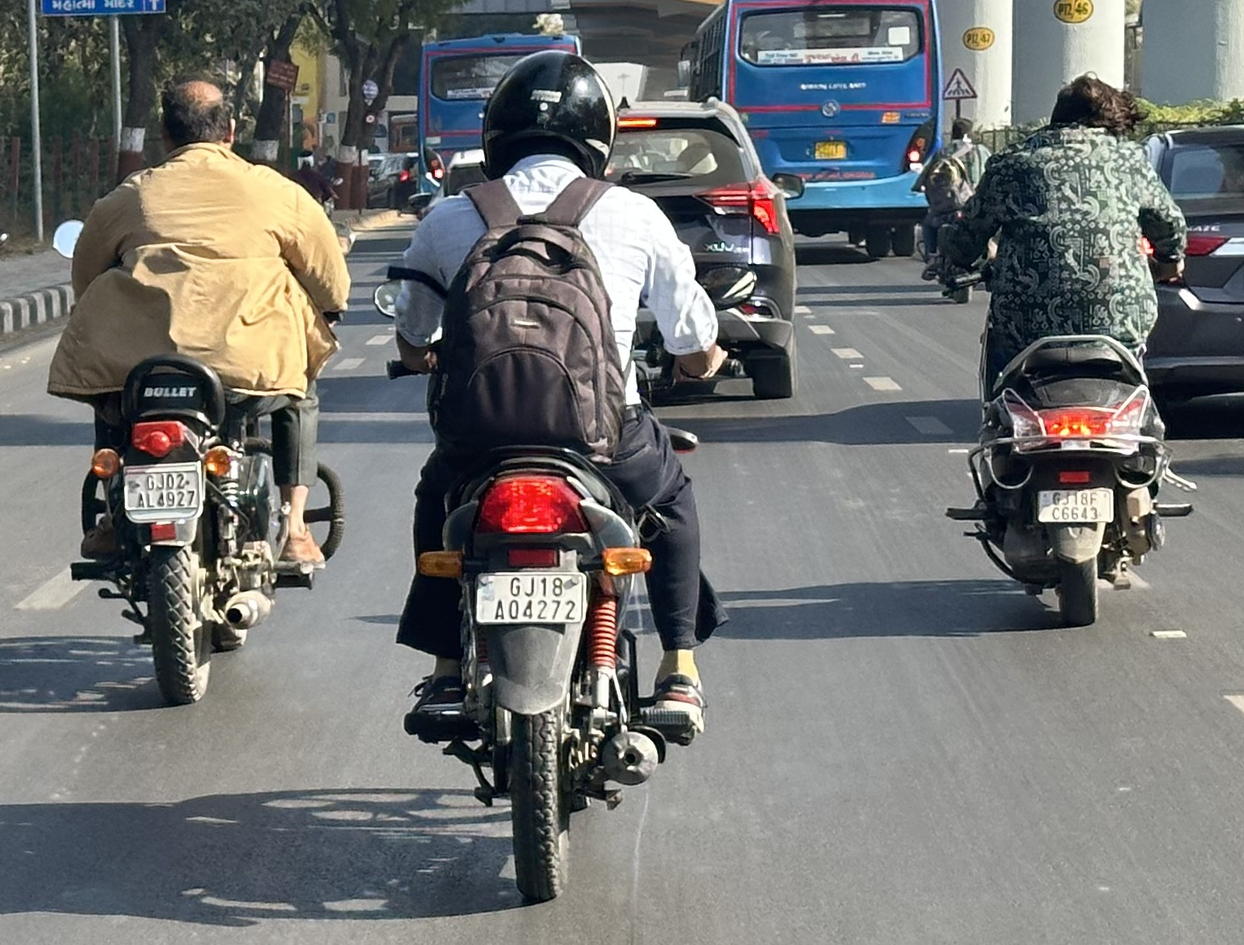BikeWithRider: (366, 37, 744, 911), (37, 65, 361, 713), (927, 57, 1201, 633), (908, 104, 1001, 306)
Helmet: (469, 44, 625, 187)
NoHelmet: (146, 69, 248, 167), (1036, 65, 1144, 145), (943, 108, 984, 147)
